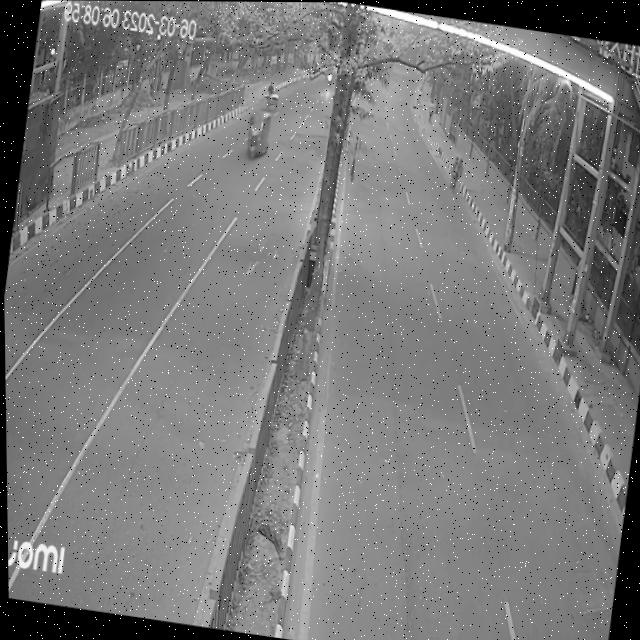cng: (242, 104, 276, 163)
